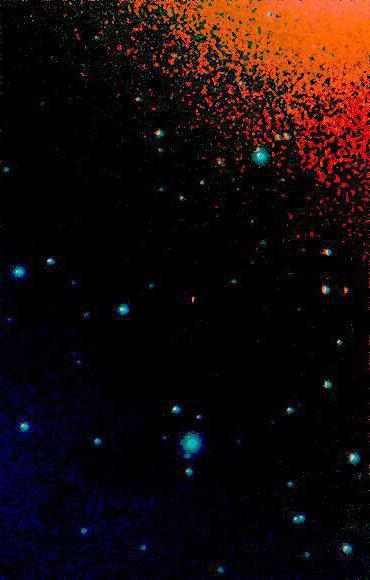star: (178, 286, 208, 316)
